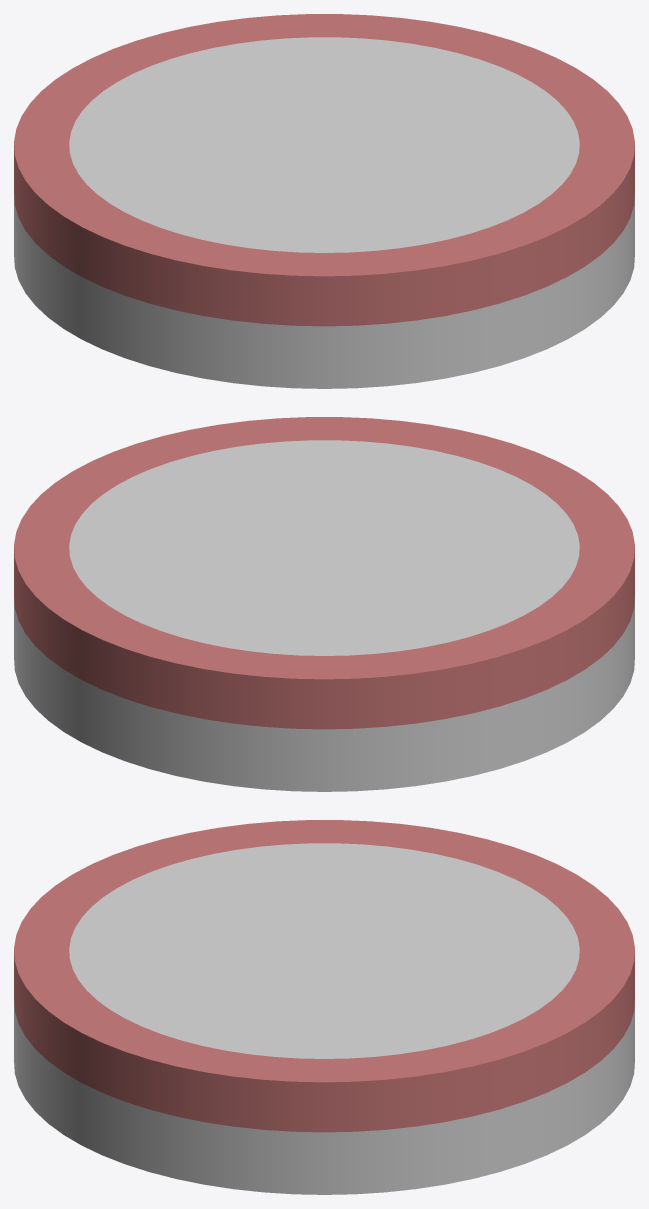
The model's file is step_02.glb.
3 views of the same model, one above another, from view 1: azimuth 30°, elevation 25°; view 2: azimuth 150°, elevation 25°; view 3: azimuth 270°, elevation 25° (orthographic).
Visible parts, largest first — view 1: part__GNSS and mobile antenna, removed__GNSS and mobile antenna; view 2: part__GNSS and mobile antenna, removed__GNSS and mobile antenna; view 3: part__GNSS and mobile antenna, removed__GNSS and mobile antenna.
Boxes of the visible parts, x1,y1,x2,y2 form: part__GNSS and mobile antenna: (14,37,634,388); removed__GNSS and mobile antenna: (14,14,634,326); part__GNSS and mobile antenna: (14,440,634,791); removed__GNSS and mobile antenna: (14,417,634,729); part__GNSS and mobile antenna: (14,843,634,1194); removed__GNSS and mobile antenna: (14,820,634,1132).
Size of the model in its own units: 89.94 by 18 by 89.97.
